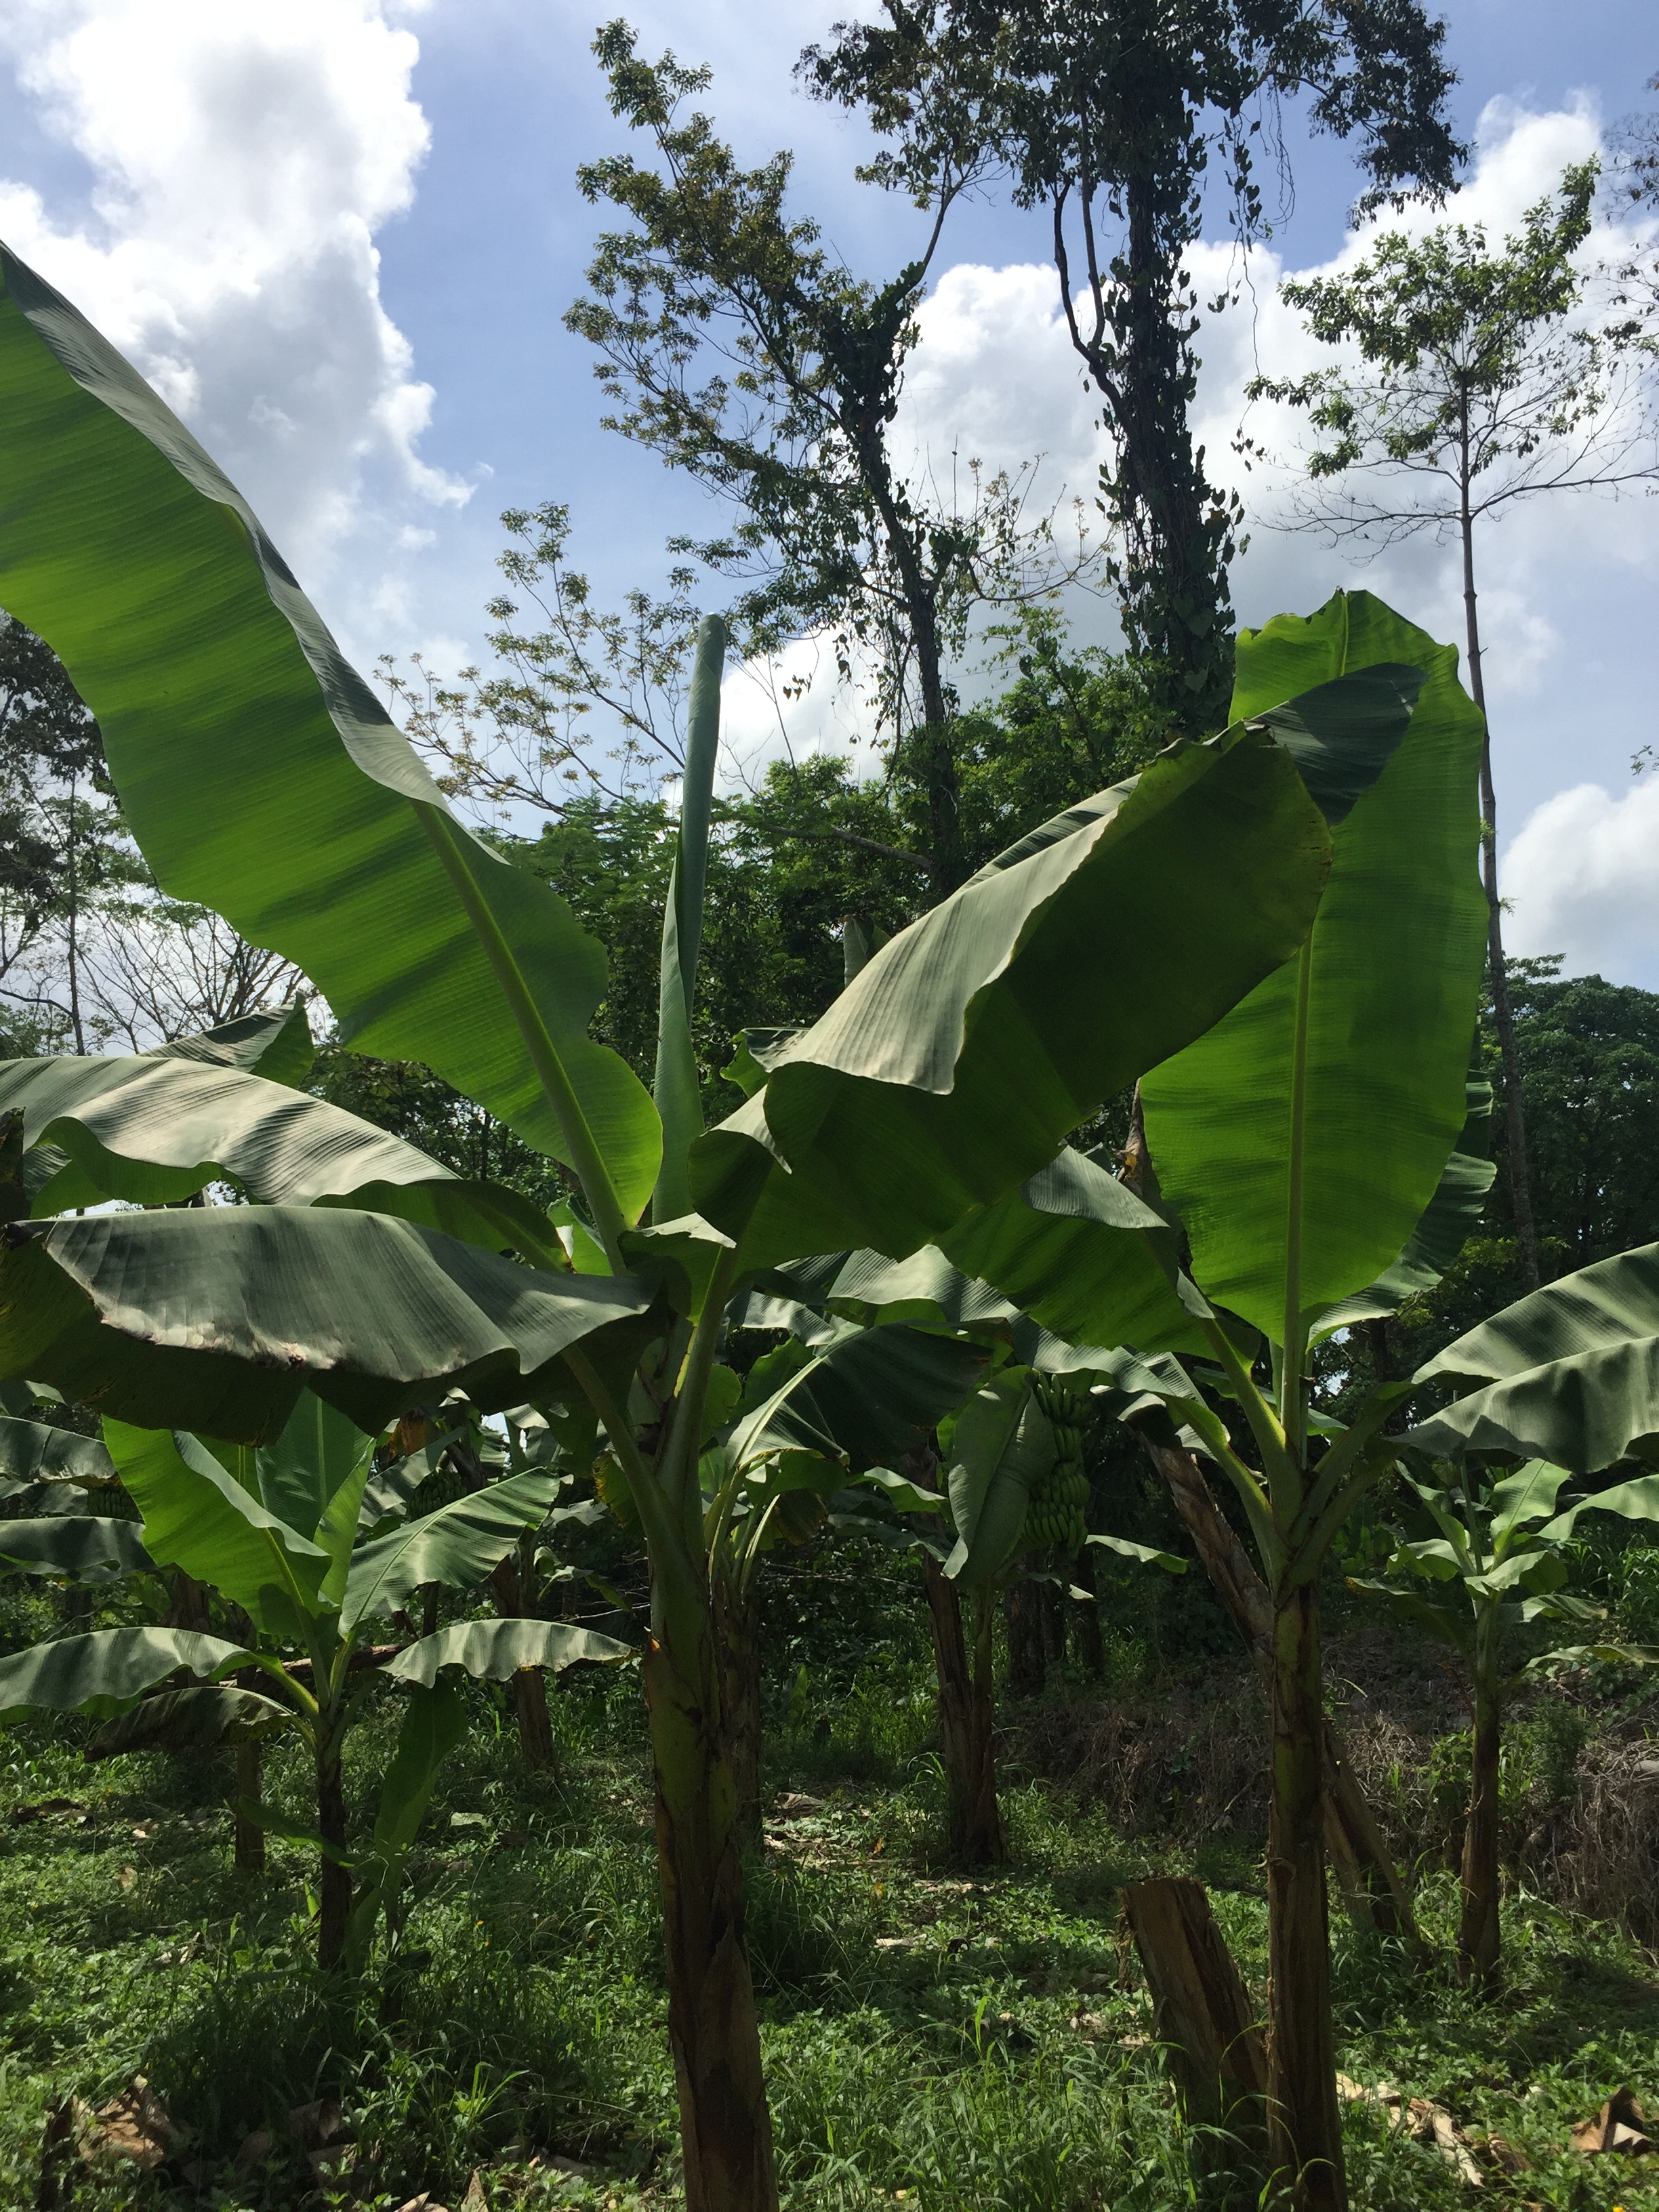candleleafs: (648, 611, 730, 1223)
